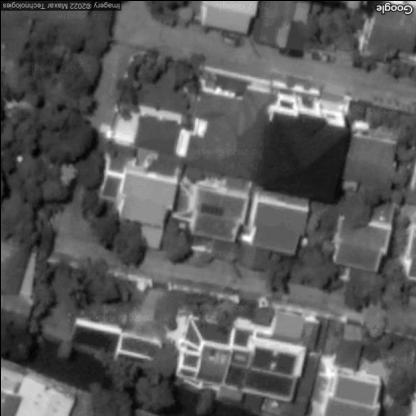solar-pv-panel: (200, 201, 222, 217)
